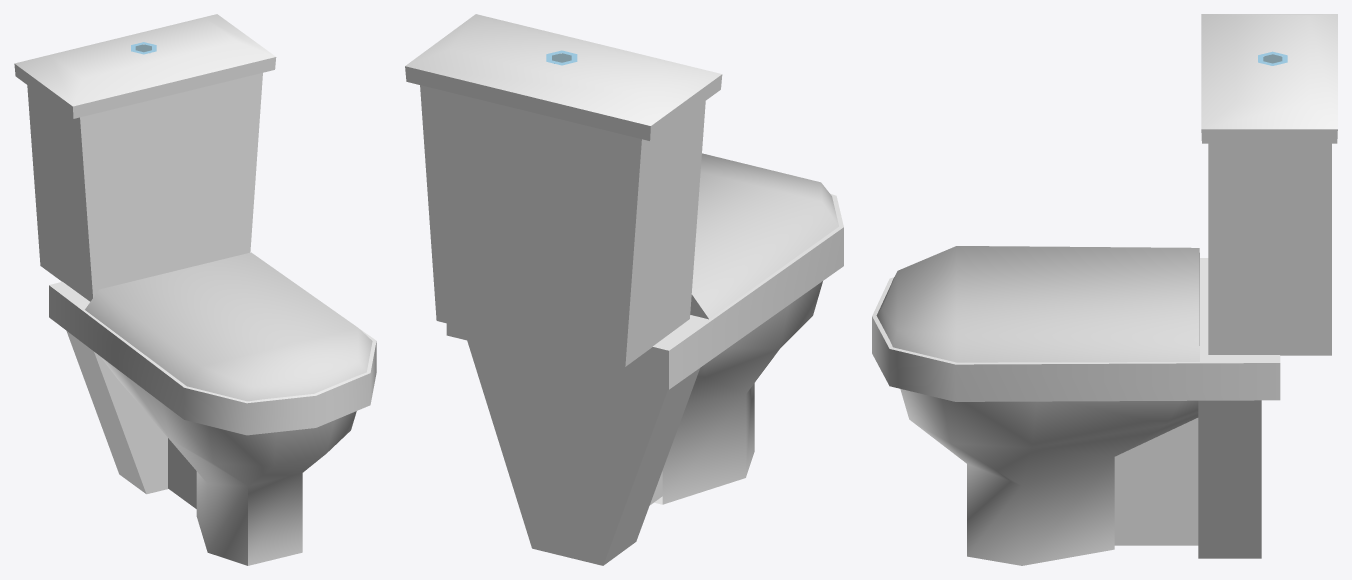
Rendered from bathroom_item_022.glb.
3 renders of one model, left to right at view 1: azimuth 30°, elevation 25°; view 2: azimuth 150°, elevation 25°; view 3: azimuth 270°, elevation 25°, orthographic. The views are drawn at different scales.
Parts seen in each view (by area): view 1: bathroom_item_022; view 2: bathroom_item_022; view 3: bathroom_item_022.
Part boxes in pixels (<box>): bathroom_item_022: <box>14,14,376,565</box>; bathroom_item_022: <box>405,14,843,565</box>; bathroom_item_022: <box>872,14,1337,565</box>.
Bounding box in the file's own units: 0.4168 × 0.8135 × 0.7111.
Materials: 1 (1 with a texture image).
